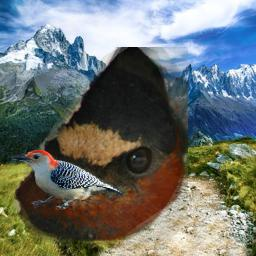Swallow: (14, 47, 188, 246)
Woodpecker: (11, 150, 122, 210)
